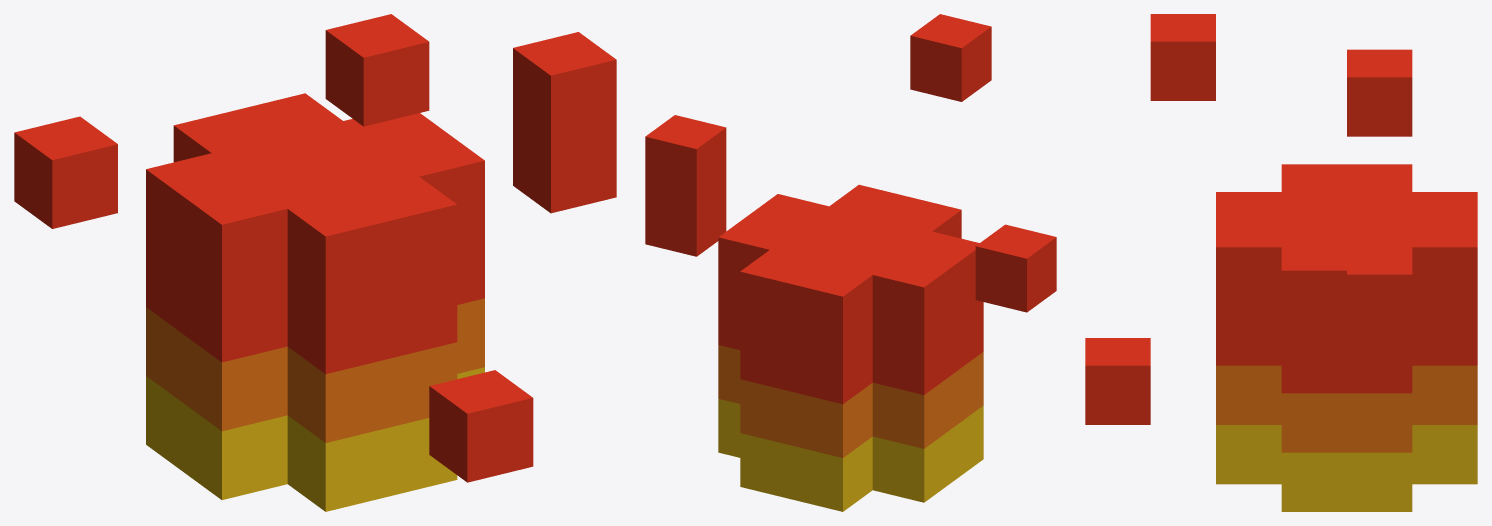
Rendered from GGJ torch flame.obj.
3 views of the same model, side by side, from view 1: azimuth 30°, elevation 25°; view 2: azimuth 150°, elevation 25°; view 3: azimuth 270°, elevation 25° (orthographic). The views are drawn at different scales.
Size of the model in its own units: 0.8 by 0.7 by 0.6.
1 material, 1 textured.
